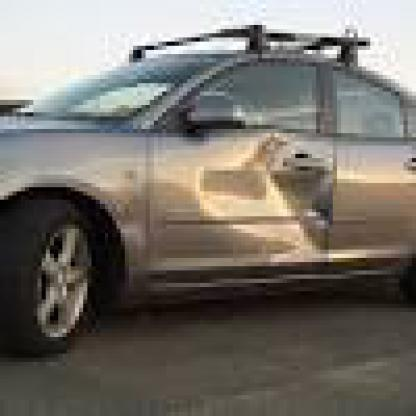dent: (204, 147, 337, 247)
